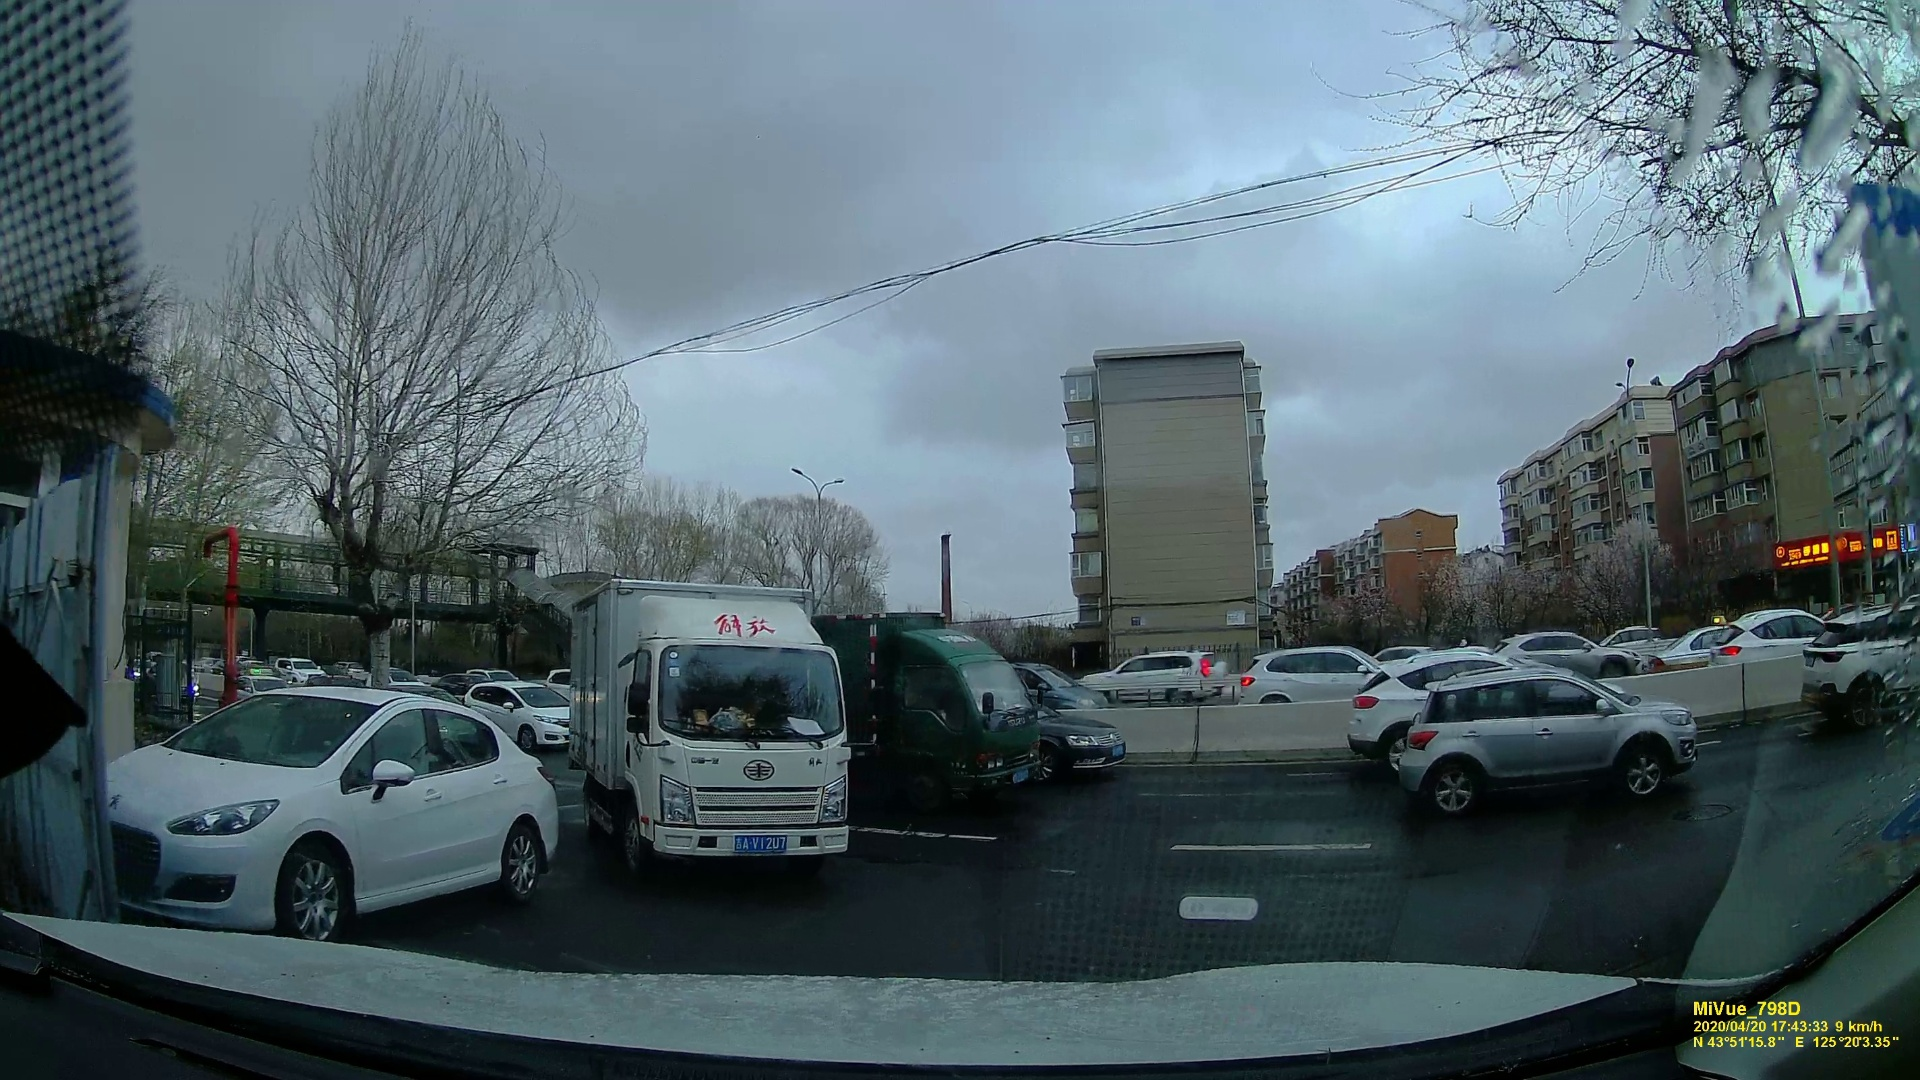truck: (556, 585, 851, 873), (839, 609, 1039, 818)
vehicle: (120, 669, 562, 940), (1408, 674, 1695, 807), (1807, 613, 1913, 723), (1241, 646, 1387, 707), (1040, 698, 1129, 781), (1083, 651, 1221, 703), (477, 676, 574, 750), (1702, 611, 1826, 666), (1493, 626, 1639, 673)
